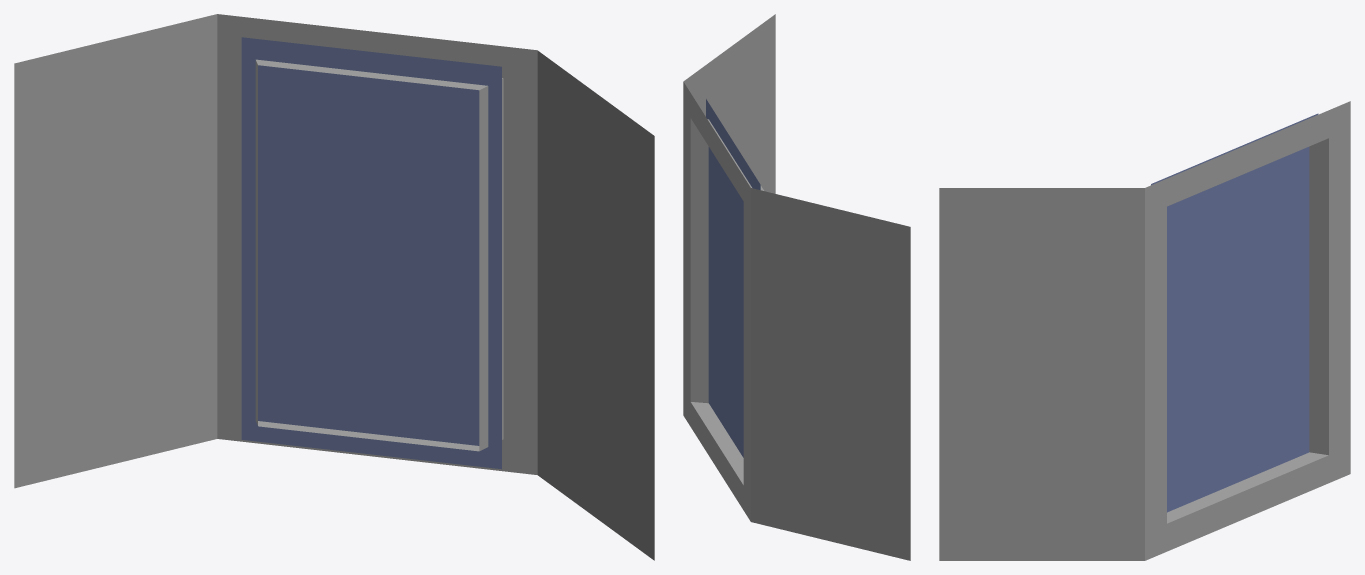
The model's file is CornerWallWindow-Basic.fbx.
3 renders of one model, left to right at view 1: azimuth 30°, elevation 25°; view 2: azimuth 150°, elevation 25°; view 3: azimuth 270°, elevation 25°, orthographic. The views are drawn at different scales.
Visible parts, largest first — view 1: CornerWallWindow; view 2: CornerWallWindow; view 3: CornerWallWindow.
Part boxes in pixels (x1,y1,x2,y2): CornerWallWindow: (14,14,654,560); CornerWallWindow: (683,14,910,560); CornerWallWindow: (939,101,1350,560).
Bounding box in the file's own units: 1 × 1 × 1.
